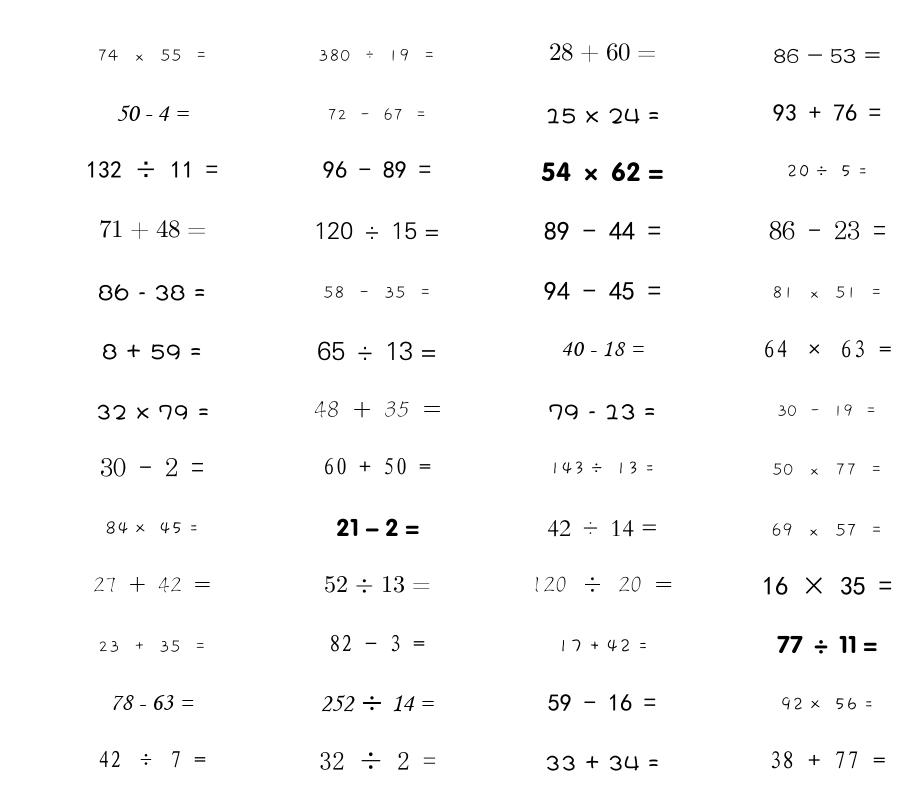MQ: (762, 576, 892, 595), (541, 162, 664, 182), (531, 576, 673, 593), (317, 341, 437, 361), (769, 220, 886, 240), (763, 340, 892, 358), (314, 400, 441, 418), (314, 222, 440, 240), (86, 161, 218, 178), (544, 221, 661, 240), (544, 281, 661, 300), (549, 43, 656, 63), (99, 220, 206, 240), (319, 752, 436, 770), (769, 751, 886, 769), (100, 457, 204, 477), (323, 457, 431, 475), (98, 750, 206, 768), (320, 695, 434, 712), (324, 575, 431, 593), (777, 635, 877, 654), (93, 577, 211, 593), (547, 520, 658, 537), (545, 108, 660, 124), (773, 104, 881, 121), (323, 161, 431, 178), (98, 284, 206, 301), (548, 694, 656, 711), (545, 755, 659, 771), (96, 404, 209, 420), (548, 404, 656, 420), (329, 634, 425, 652), (102, 343, 202, 360), (318, 48, 436, 62), (773, 48, 881, 63), (771, 523, 883, 537), (336, 518, 419, 536), (549, 461, 655, 475), (97, 49, 208, 62), (772, 286, 883, 299), (772, 463, 883, 476), (323, 286, 432, 299), (98, 640, 207, 653), (110, 695, 194, 711), (561, 341, 644, 357), (105, 521, 199, 535), (780, 697, 874, 711), (327, 108, 427, 121), (777, 404, 877, 417), (557, 639, 648, 653), (116, 105, 189, 121), (786, 164, 868, 178)
